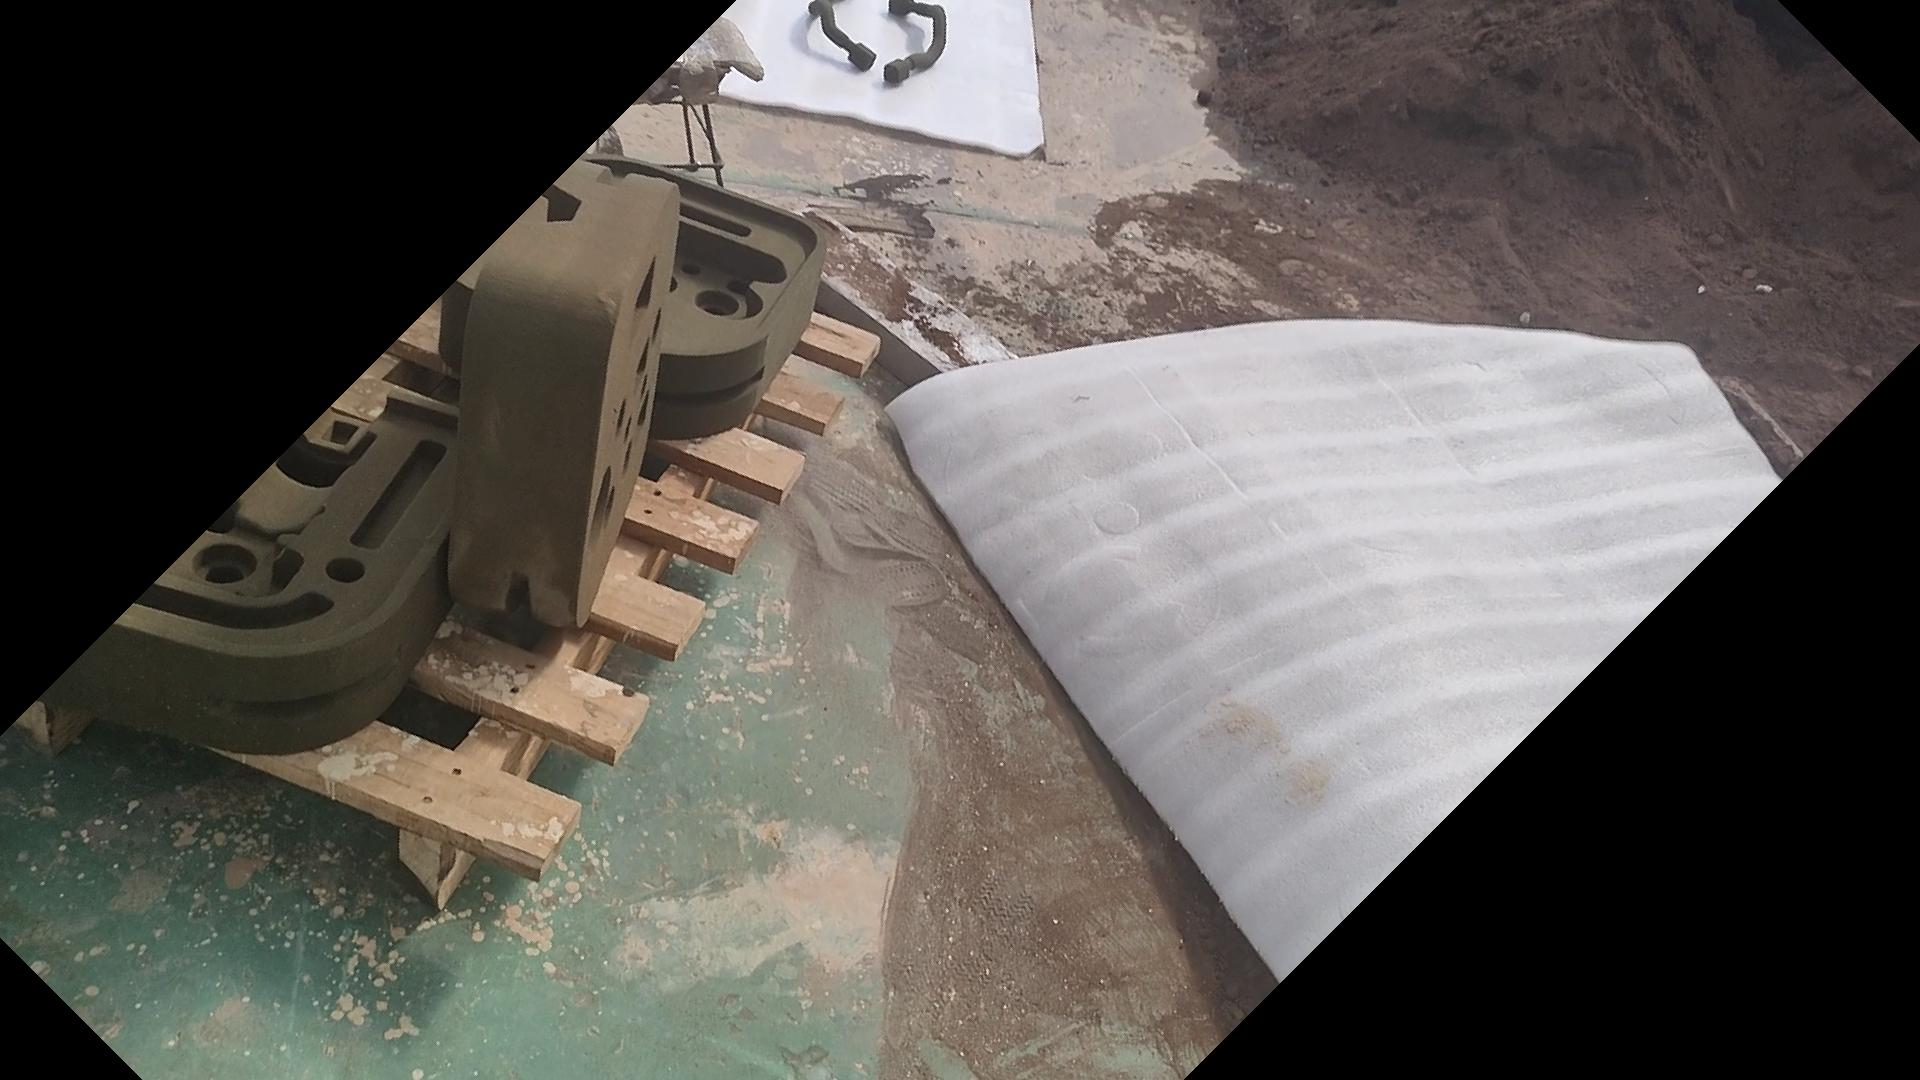pouring hole: (585, 468, 611, 545)
